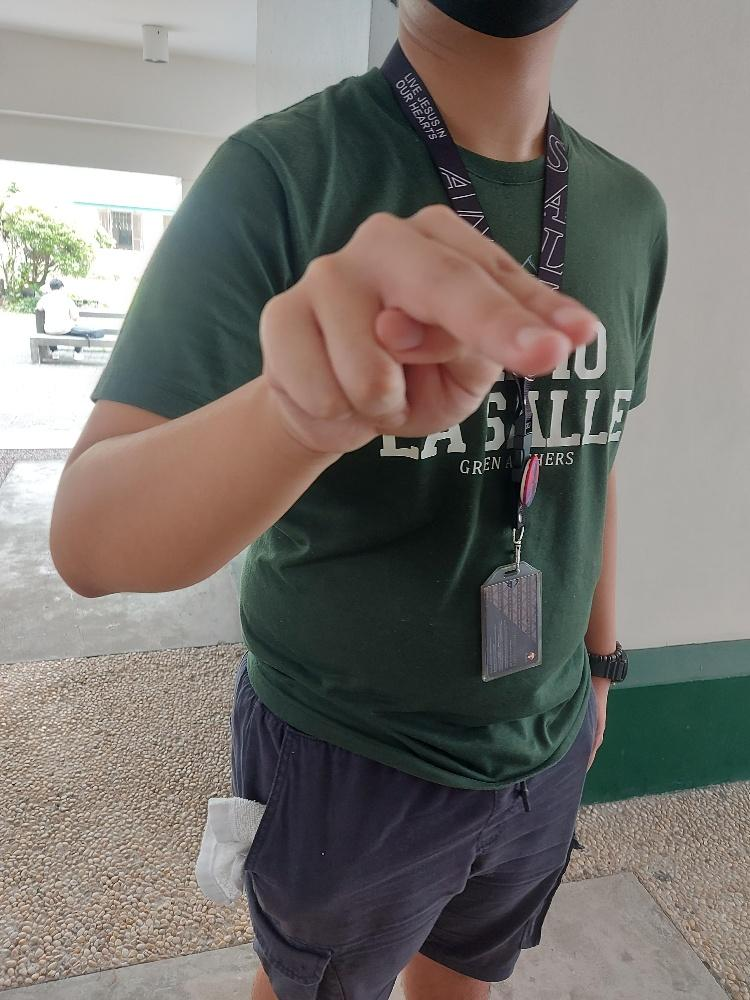n: (254, 198, 600, 455)
